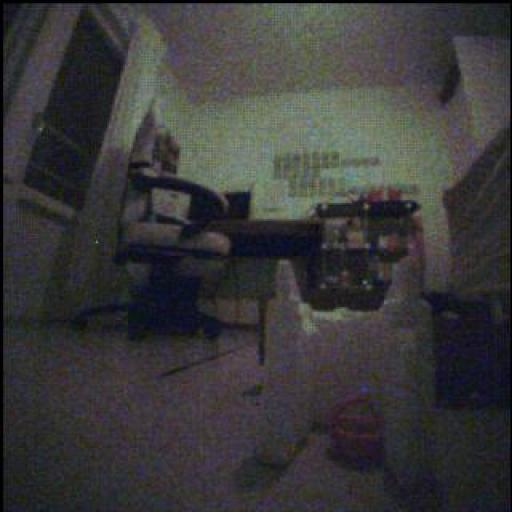basket: (332, 396, 385, 465), (367, 190, 385, 204), (388, 188, 403, 203)
